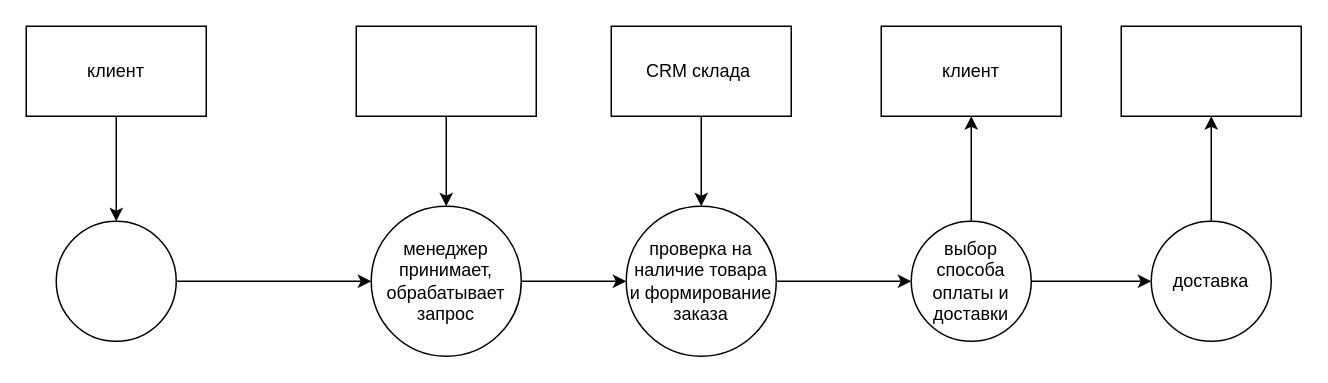
The diagram is 1328 pixels wide and 383 high, and some of its shapes have lost their labels. The centre of each missing label's shape, as x and y in pixels:
CRM курьера: the point at 1210,70
CRM меджера: the point at 445,70
запрос: the point at 115,280
